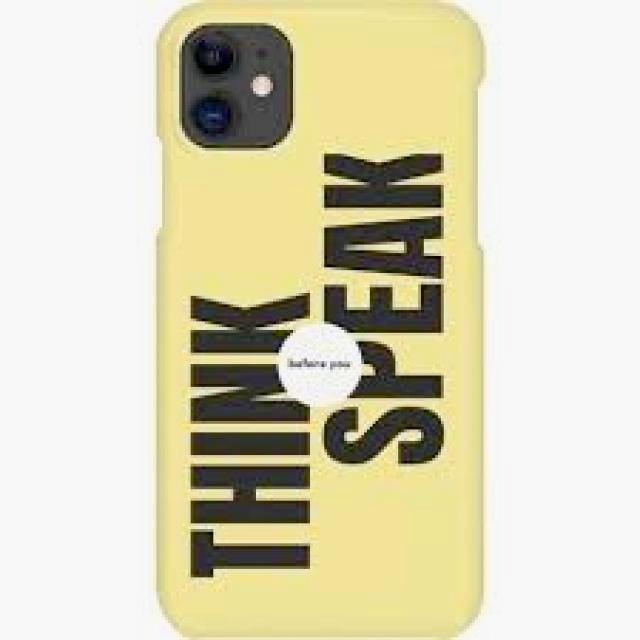lens: (176, 20, 300, 152)
phone: (151, 2, 484, 640)
